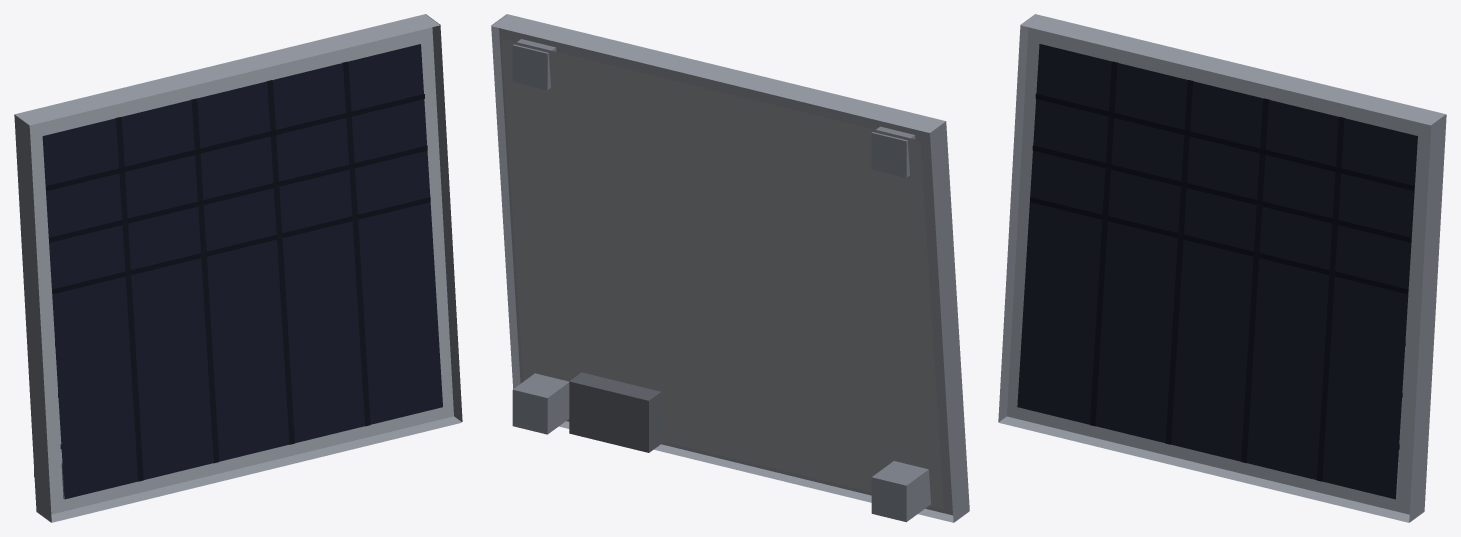
Rendered from array_flat_premium_clear_S.obj.
3 views of the same model, side by side, from view 1: azimuth 30°, elevation 25°; view 2: azimuth 150°, elevation 25°; view 3: azimuth 330°, elevation 25° (orthographic). The views are drawn at different scales.
Visible parts, largest first — view 1: array_flat_premium_clear_S; view 2: array_flat_premium_clear_S; view 3: array_flat_premium_clear_S.
Boxes of the visible parts, x1,y1,x2,y2 form: array_flat_premium_clear_S: (14, 14, 462, 522); array_flat_premium_clear_S: (491, 14, 969, 522); array_flat_premium_clear_S: (998, 14, 1446, 522).
Size of the model in its own units: 0.881 by 0.781 by 0.142.
Materials: 1 (1 with a texture image).
